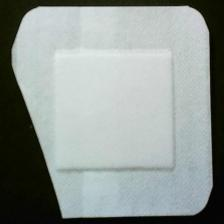Cut: (10, 6, 215, 220)
